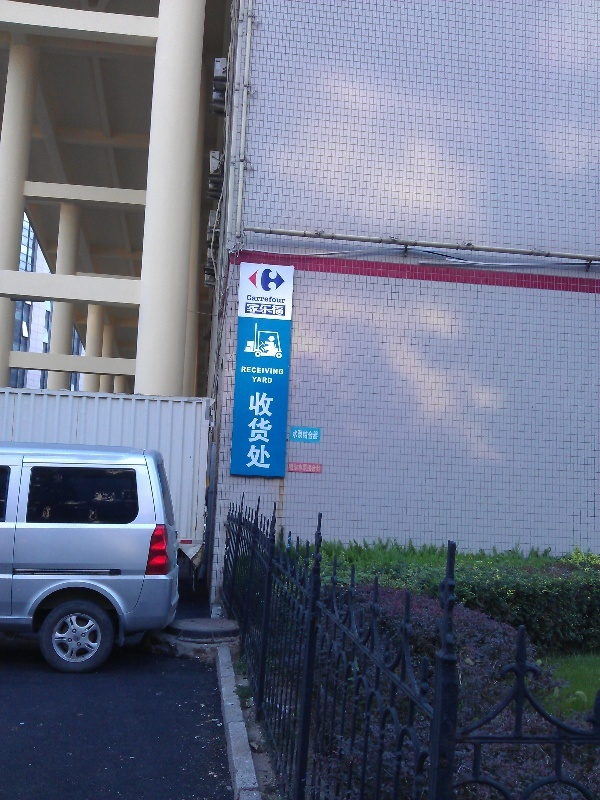text: (257, 391, 272, 471), (248, 391, 256, 471), (273, 391, 276, 471), (257, 303, 272, 316), (305, 429, 319, 441), (241, 365, 256, 376), (257, 365, 272, 376), (257, 294, 272, 305), (273, 303, 285, 316), (273, 294, 287, 305), (289, 463, 304, 473), (305, 463, 320, 473), (273, 365, 286, 376), (257, 376, 272, 385), (293, 429, 304, 441), (247, 303, 256, 316), (247, 294, 256, 305), (252, 376, 256, 385), (321, 463, 322, 473), (273, 376, 274, 385)
